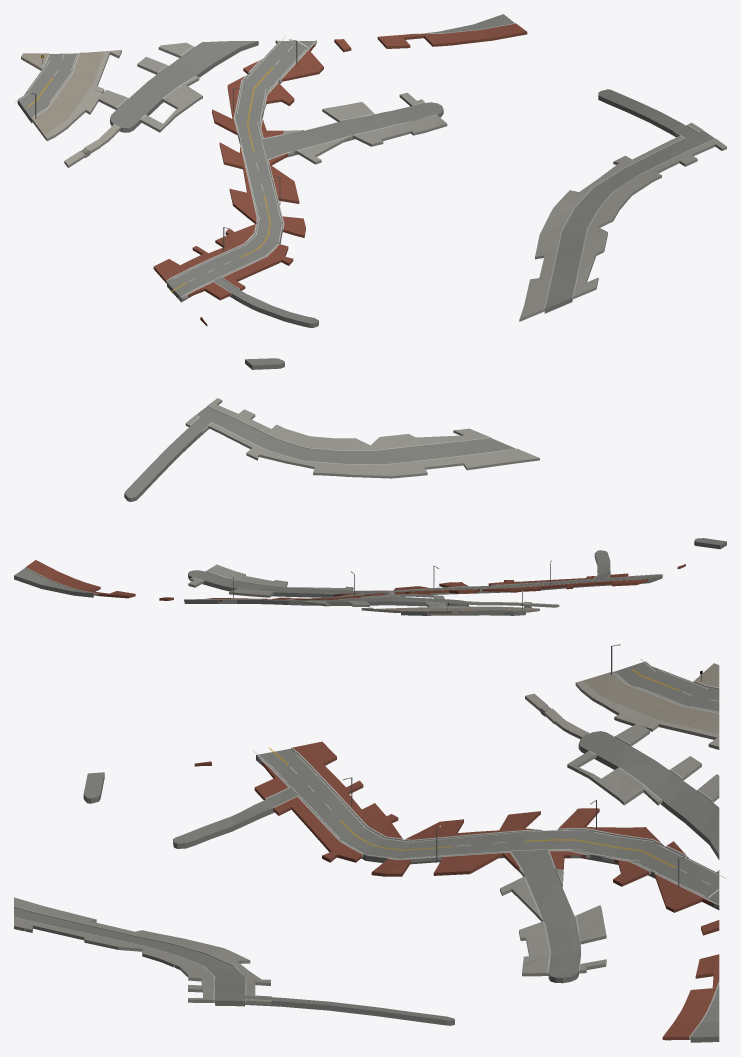
3 renders of one model, top to bottom at view 1: azimuth 30°, elevation 25°; view 2: azimuth 150°, elevation 25°; view 3: azimuth 270°, elevation 25°, orthographic. The views are drawn at different scales.
Bounding box in the file's own units: 148 × 33.12 × 147.
